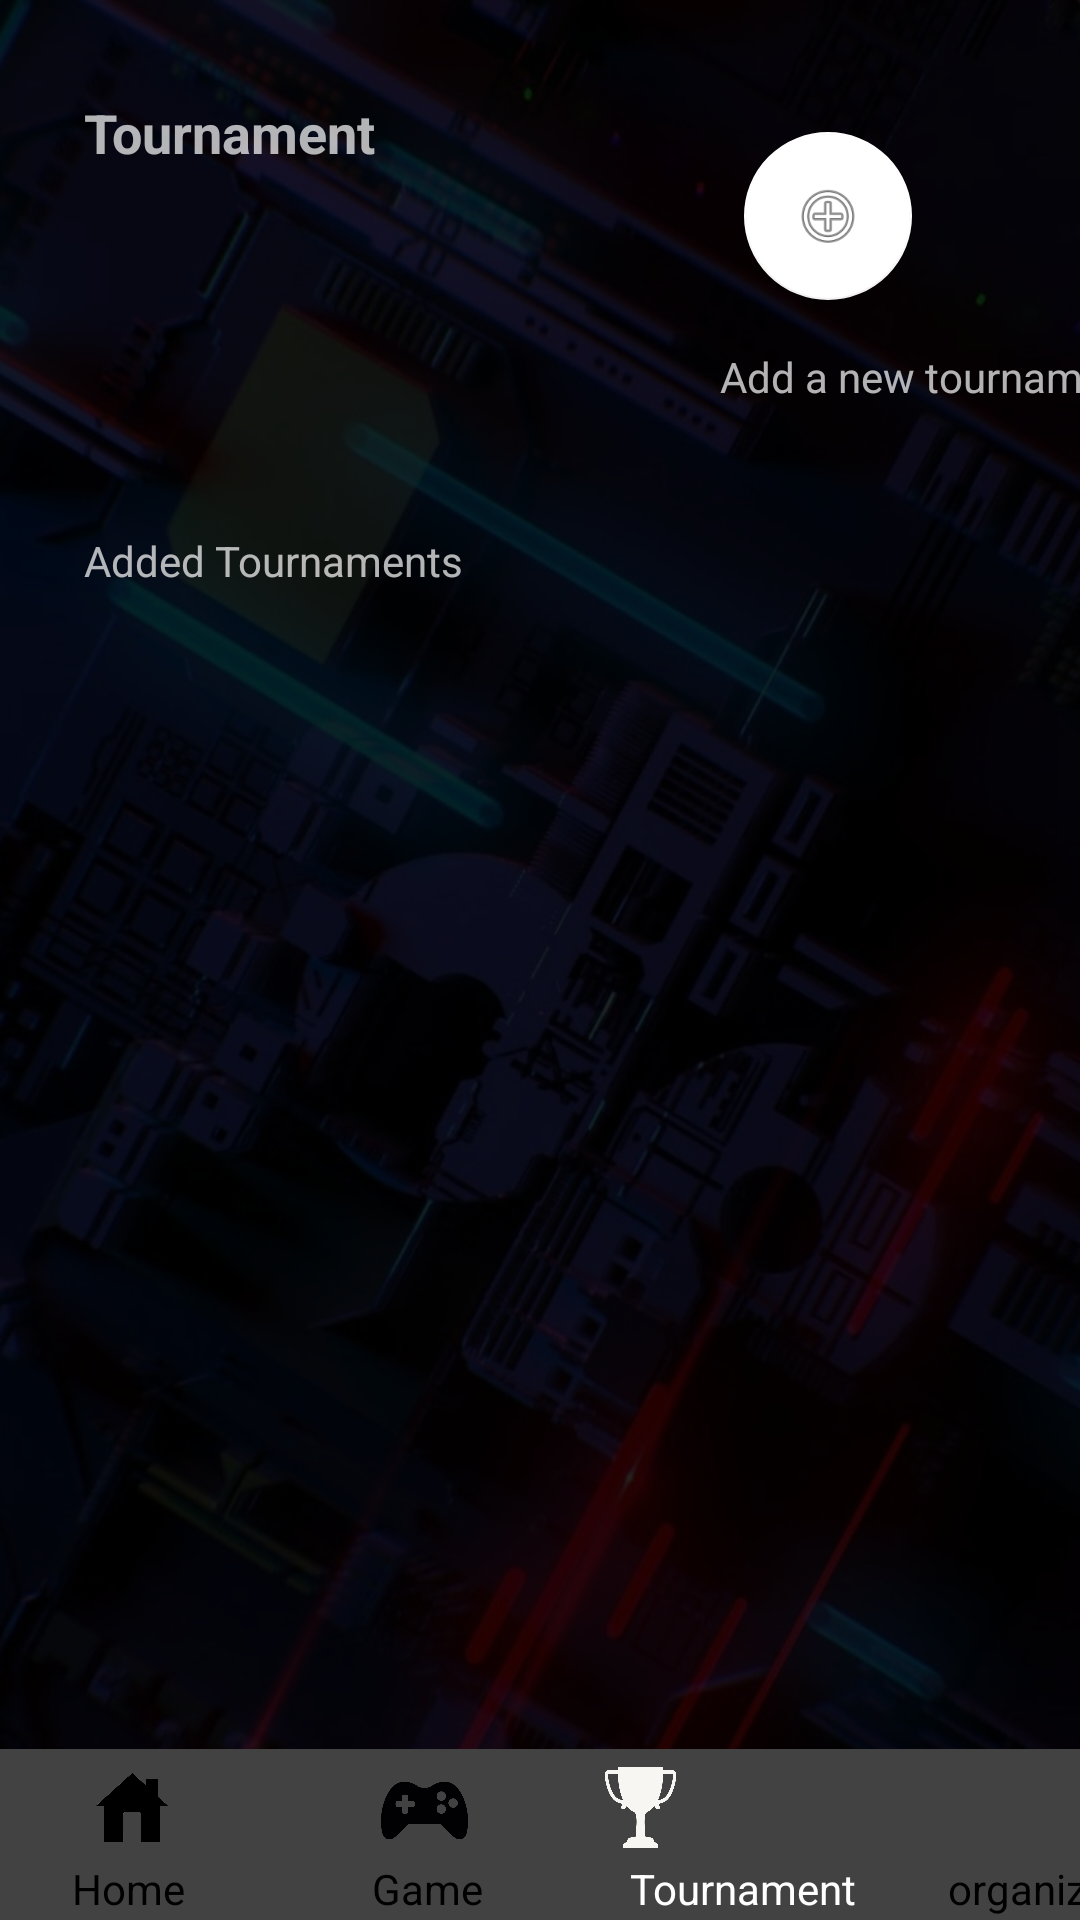

Screen size 1080w x 1920h. Icon name, then its center in pixels as (x,y):
console: (424,1810)
cupwhite: (640,1807)
